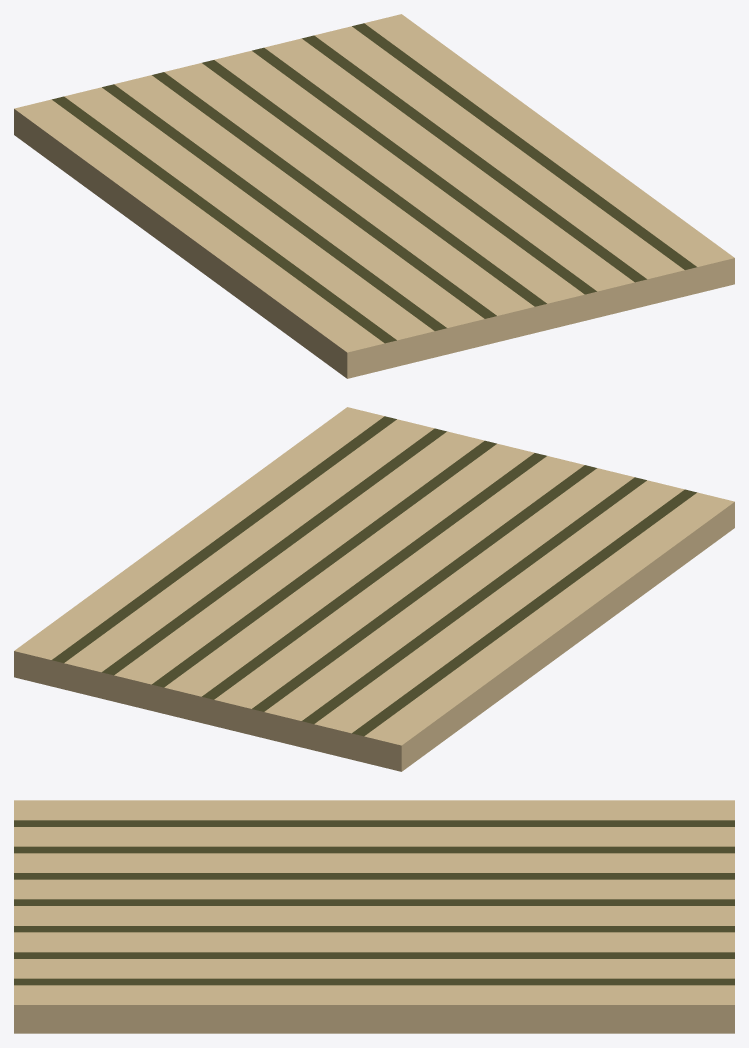
Rendered from Cutting_board.fbx.
The picture shows the model from 3 angles, top to bottom: view 1: azimuth 30°, elevation 25°; view 2: azimuth 150°, elevation 25°; view 3: azimuth 270°, elevation 25°; orthographic projection. The views are drawn at different scales.
Parts seen in each view (by area): view 1: pCube1; view 2: pCube1; view 3: pCube1.
Part boxes in pixels (x1,y1,x2,y2): pCube1: (14,14,734,378); pCube1: (14,407,734,771); pCube1: (14,800,734,1033).
Size of the model in its own units: 2.8 by 0.1817 by 4.17.
